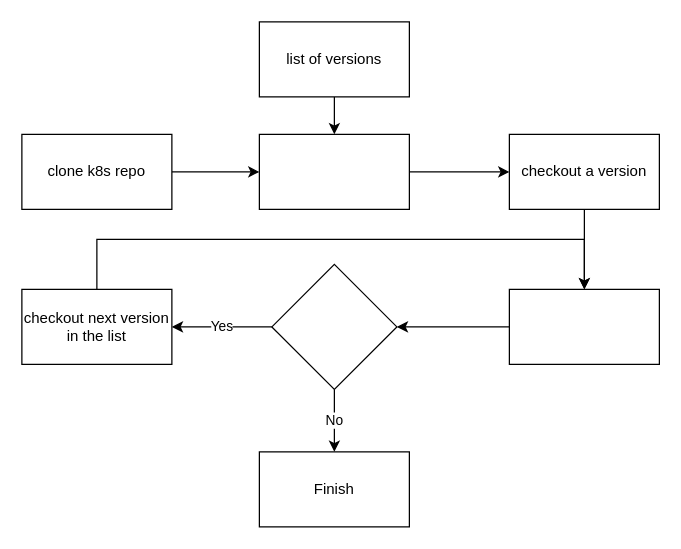
Image size: 681x549. Some labels were removed from this diagram. The shapes that lost their labels are listed below. From the top down, each one's box as (x1, y1, x2, y2) in pixels, then its label:
(258, 133, 409, 209): script start
(271, 263, 397, 389): more versions?
(508, 288, 659, 364): call BOM tool and extract the .spdx file
